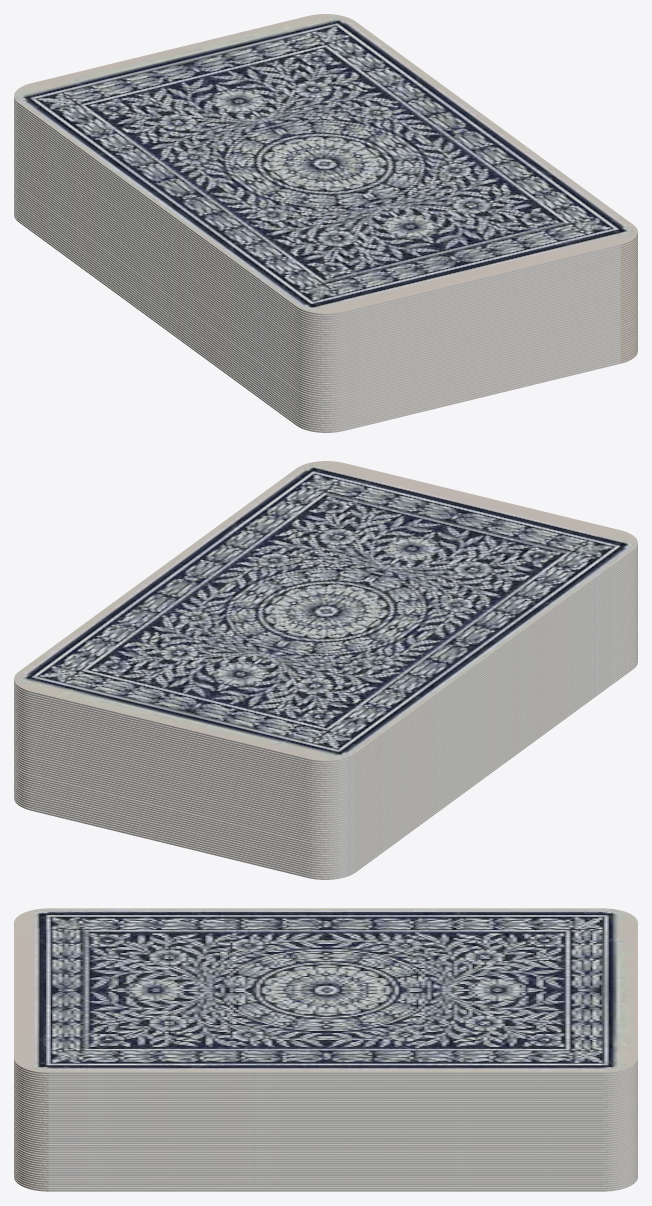
Rendered from DeckOfCardsFixed.fbx.
3 renders of one model, top to bottom at view 1: azimuth 30°, elevation 25°; view 2: azimuth 150°, elevation 25°; view 3: azimuth 270°, elevation 25°, orthographic.
Visible parts, largest first — view 1: Cube.050, Cube.010, Cube.005, Cube.035, Cube.026, Cube.021, Cube.004, Cube.020, Cube, Cube.007, Cube.019, Cube.023 (+41 smaller); view 2: Cube.050, Cube.010, Cube.005, Cube.035, Cube.026, Cube.021, Cube.004, Cube.020, Cube, Cube.003, Cube.007, Cube.019 (+41 smaller); view 3: Cube.050, Cube.010, Cube.035, Cube.026, Cube.005, Cube.012, Cube.049, Cube.052, Cube.011, Cube.015, Cube.020, Cube.021 (+41 smaller).
Part boxes in pixels (<box>): Cube.050: <box>14,14,637,315</box>; Cube.010: <box>14,180,637,398</box>; Cube.005: <box>14,198,637,417</box>; Cube.035: <box>14,130,637,349</box>; Cube.026: <box>14,162,637,380</box>; Cube.021: <box>14,143,637,362</box>; Cube.004: <box>14,200,637,419</box>; Cube.020: <box>14,146,637,364</box>; Cube: <box>14,214,637,432</box>; Cube.007: <box>14,205,637,423</box>; Cube.019: <box>14,155,637,373</box>; Cube.023: <box>14,150,637,369</box>; Cube.050: <box>14,461,637,762</box>; Cube.010: <box>14,627,637,845</box>; Cube.005: <box>14,645,637,864</box>; Cube.035: <box>14,577,637,796</box>; Cube.026: <box>14,609,637,827</box>; Cube.021: <box>14,590,637,809</box>; Cube.004: <box>14,647,637,866</box>; Cube.020: <box>14,593,637,811</box>; Cube: <box>14,661,637,879</box>; Cube.003: <box>14,656,637,875</box>; Cube.007: <box>14,652,637,870</box>; Cube.019: <box>14,602,637,820</box>; Cube.050: <box>14,908,637,1074</box>; Cube.010: <box>14,1142,637,1157</box>; Cube.035: <box>14,1092,637,1107</box>; Cube.026: <box>14,1124,637,1139</box>; Cube.005: <box>14,1160,637,1175</box>; Cube.012: <box>14,1153,637,1168</box>; Cube.049: <box>14,1061,637,1076</box>; Cube.052: <box>14,1065,637,1080</box>; Cube.011: <box>14,1144,637,1159</box>; Cube.015: <box>14,1158,637,1173</box>; Cube.020: <box>14,1108,637,1123</box>; Cube.021: <box>14,1106,637,1121</box>.
Bounding box in the file's own units: 5.6 × 1.9 × 9.
